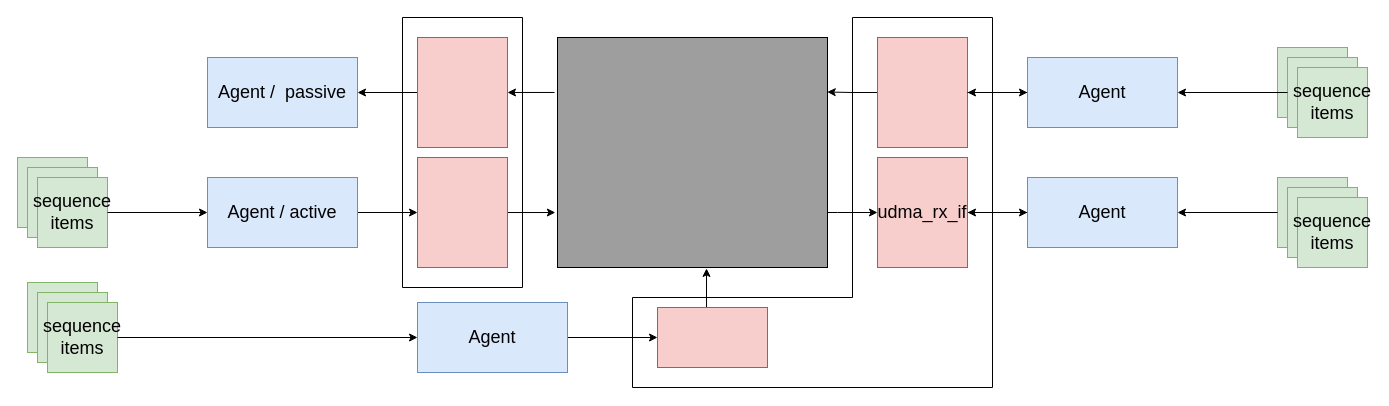
Some shapes in this 1389 by 406 pixel diagram are drawn without their labels. Here are the shapes that lost their labels. From the top down, the box of each, then its label:
(416, 36, 508, 148): uart_tx_if
(876, 36, 968, 148): udma_tx_if
(556, 36, 828, 268): DUT (UART)
(416, 156, 508, 268): uart_rx_if
(656, 306, 768, 368): cfg_if
